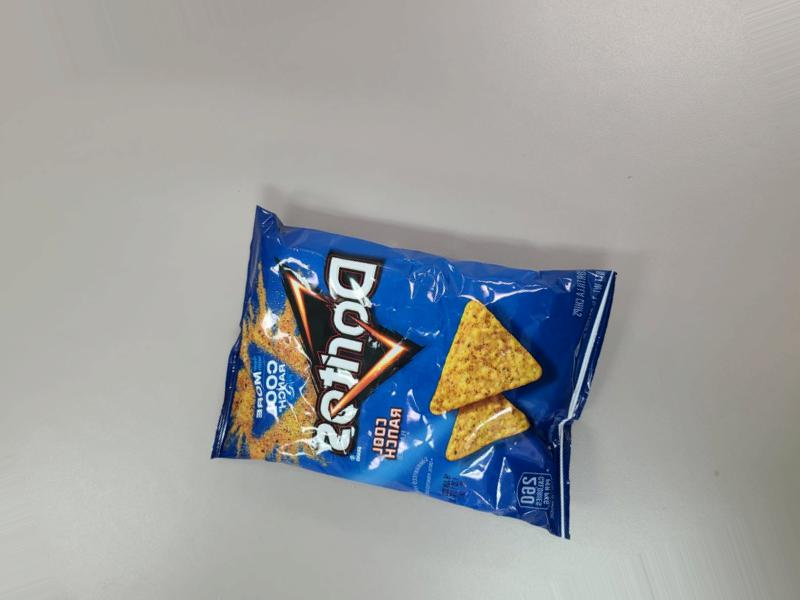doritos: (226, 190, 602, 545)
